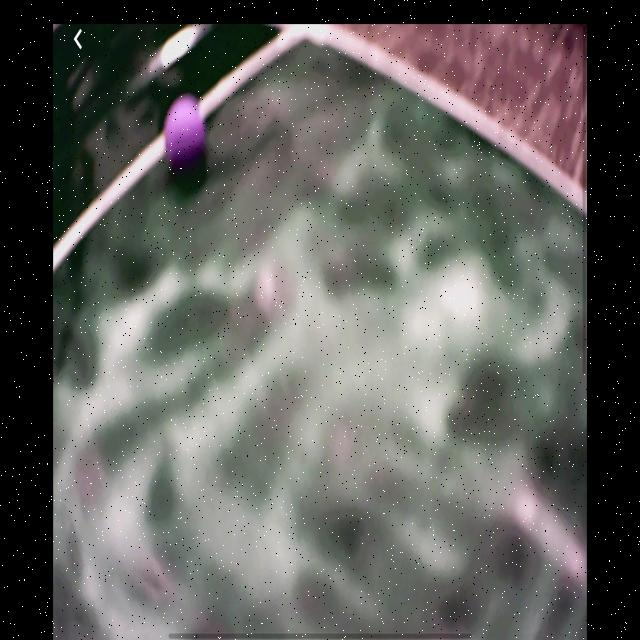ball: (164, 93, 208, 171)
